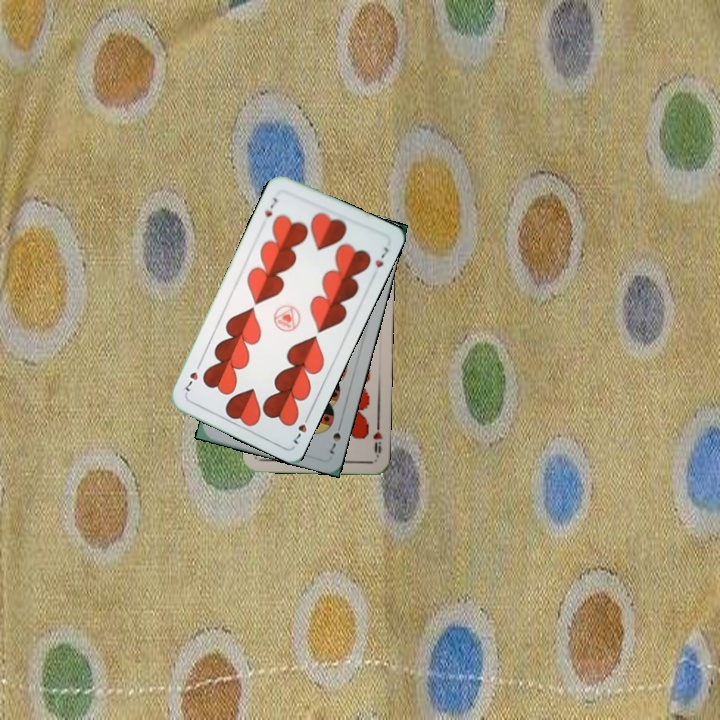H7: (289, 410, 313, 447), (260, 194, 280, 219)
H9: (369, 418, 385, 459)
S7: (326, 428, 343, 457)
